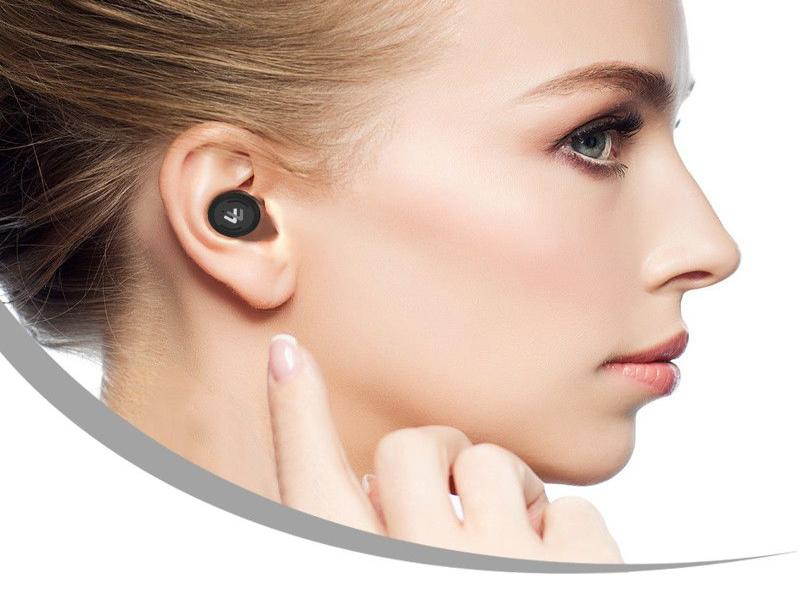headphone: (208, 187, 261, 237)
